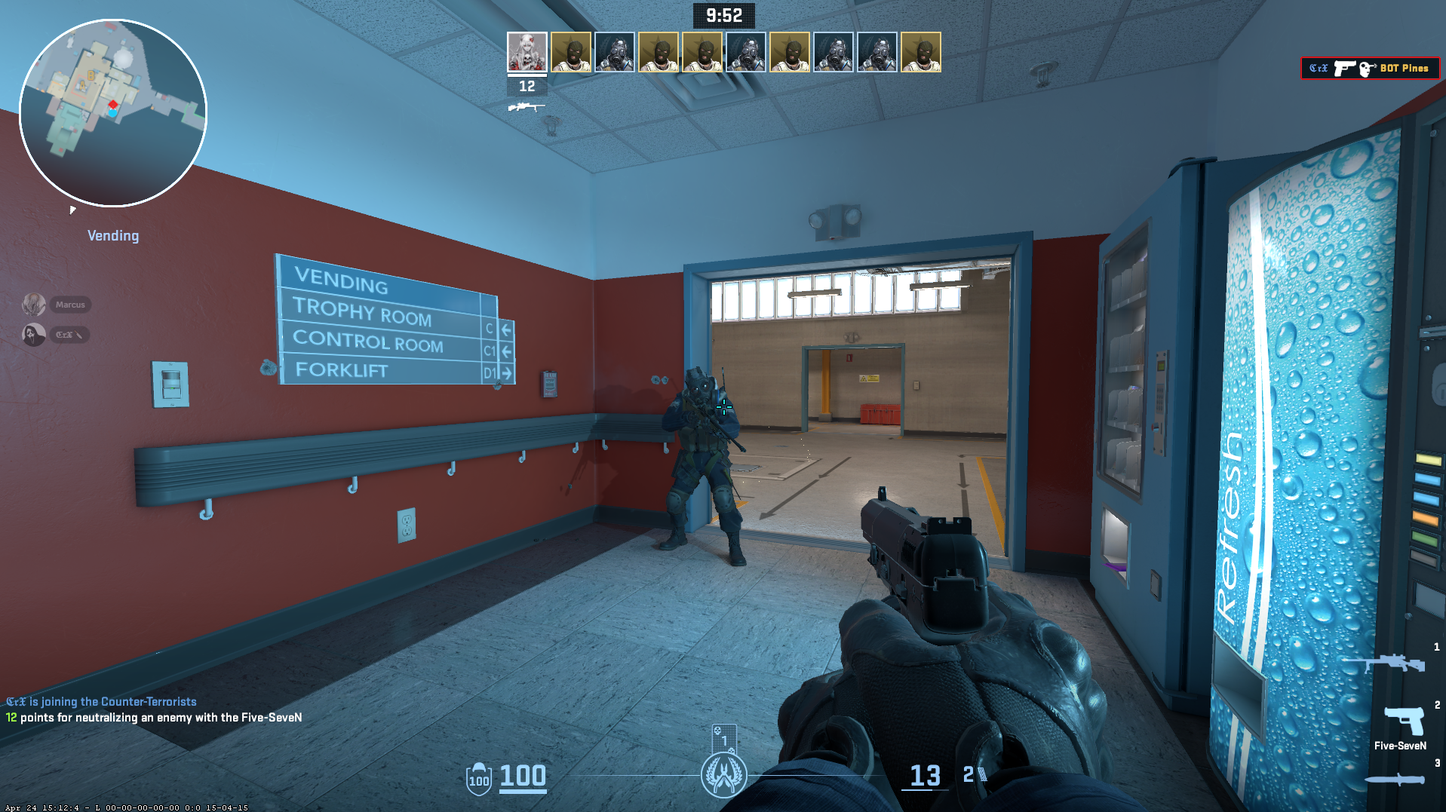CT: (663, 365, 742, 567)
